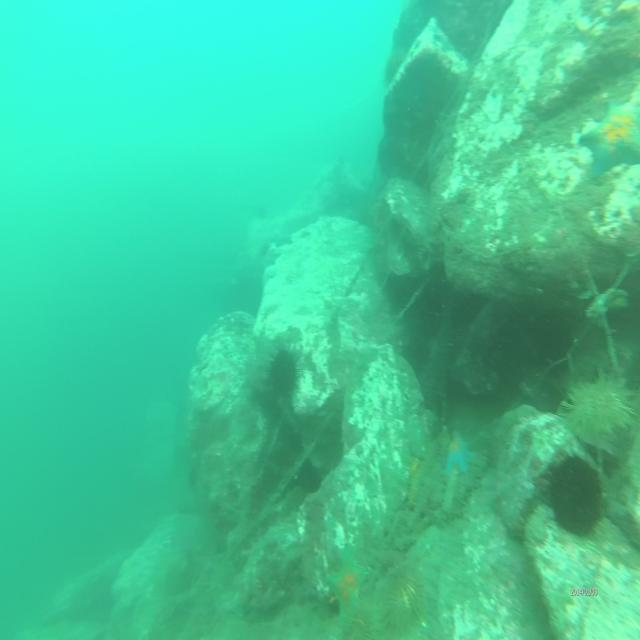echinus: (558, 372, 640, 446), (550, 452, 606, 547), (374, 564, 426, 638), (260, 344, 300, 406)
starfish: (579, 102, 640, 194), (322, 538, 371, 623), (442, 430, 477, 476)
